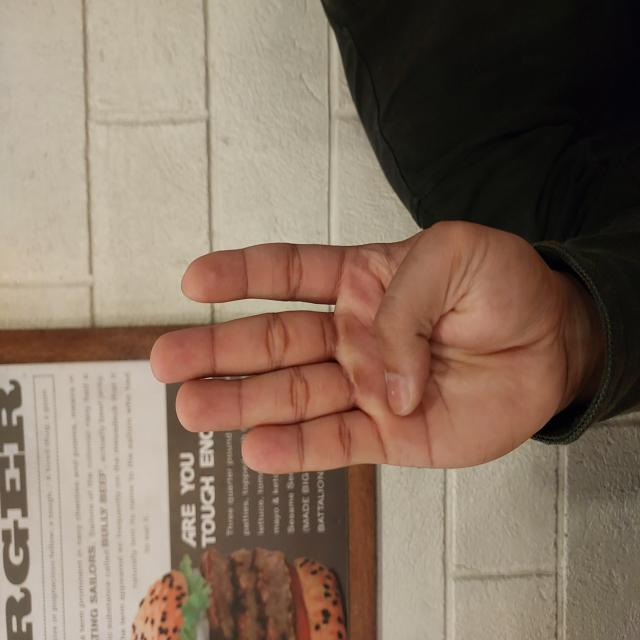B: (162, 148, 422, 566)
